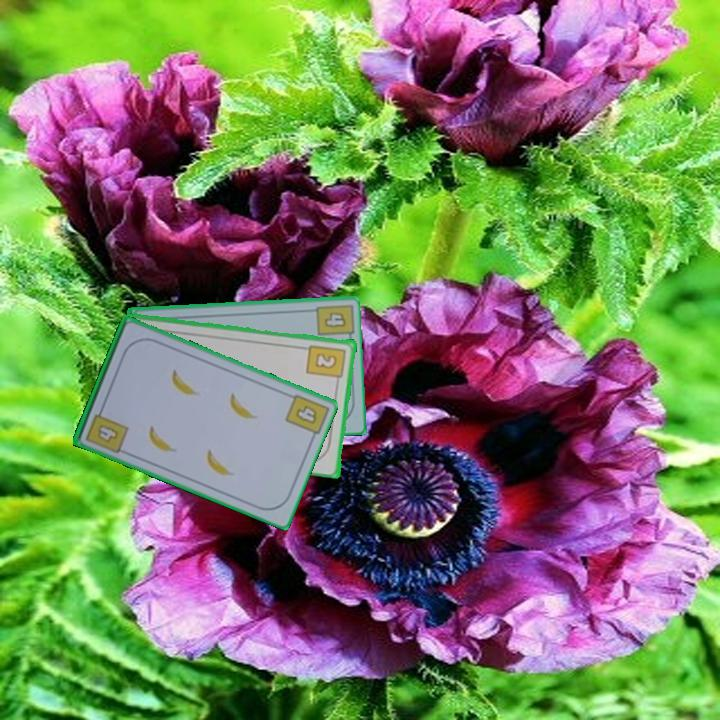2b: (304, 341, 349, 387)
4b: (82, 403, 131, 456), (292, 402, 320, 427), (321, 308, 349, 331)
